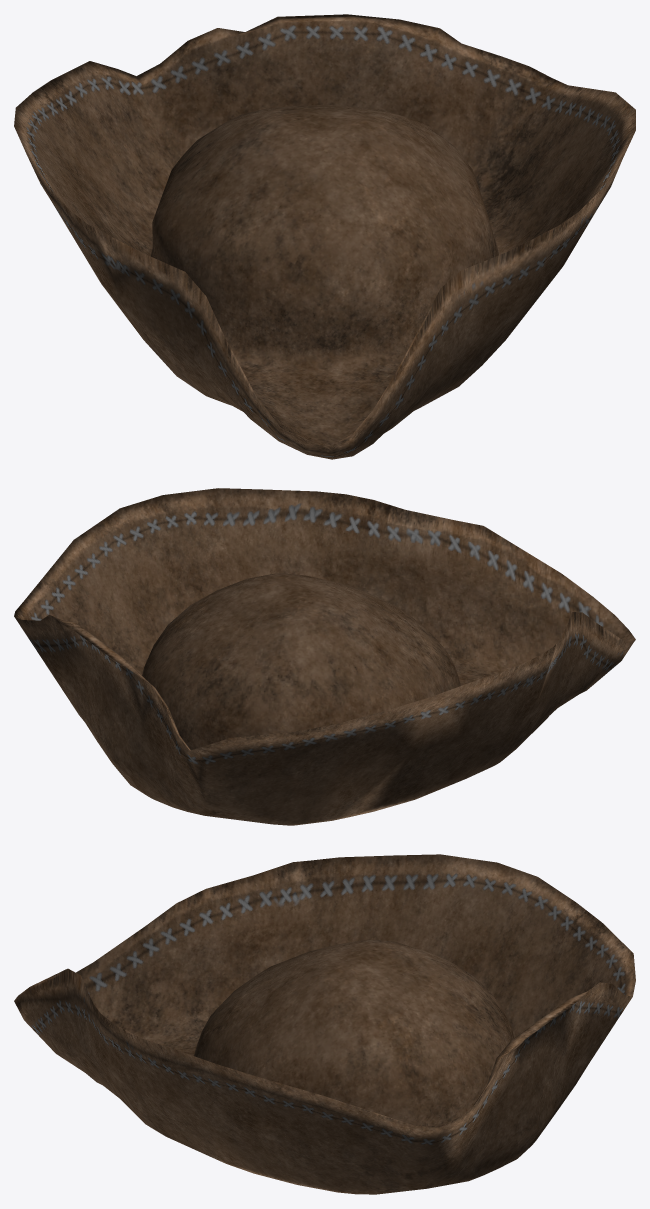
The model's file is pirate_hat.fbx.
The picture shows the model from 3 angles, top to bottom: view 1: azimuth 30°, elevation 25°; view 2: azimuth 150°, elevation 25°; view 3: azimuth 270°, elevation 25°; orthographic projection. The views are drawn at different scales.
Parts seen in each view (by area): view 1: pirate hat; view 2: pirate hat; view 3: pirate hat.
Boxes of the visible parts, x1,y1,x2,y2 form: pirate hat: (14, 14, 635, 459); pirate hat: (14, 488, 635, 825); pirate hat: (14, 854, 635, 1194).
Bounding box in the file's own units: 281 × 96.44 × 315.
